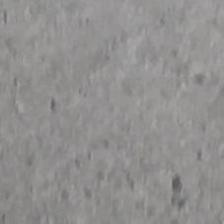Non_Crack: (19, 19, 218, 195)
